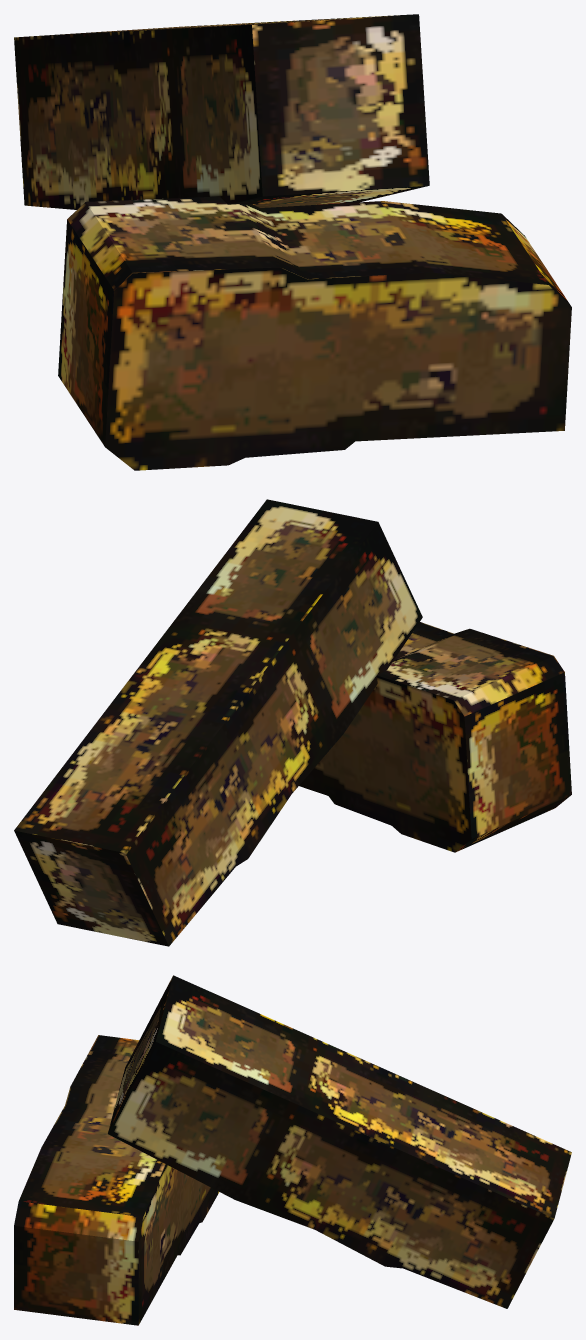
File: stoneBricksC.fbx
3 renders of one model, top to bottom at view 1: azimuth 30°, elevation 25°; view 2: azimuth 150°, elevation 25°; view 3: azimuth 270°, elevation 25°, orthographic. The views are drawn at different scales.
Visible parts, largest first — view 1: stoneBricksC; view 2: stoneBricksC; view 3: stoneBricksC.
Boxes of the visible parts, x1,y1,x2,y2 form: stoneBricksC: [14, 14, 571, 470]; stoneBricksC: [14, 499, 571, 946]; stoneBricksC: [14, 975, 571, 1325].
Bounding box in the file's own units: 0.613 × 0.5056 × 0.9355.
Materials: 1 (1 with a texture image).
